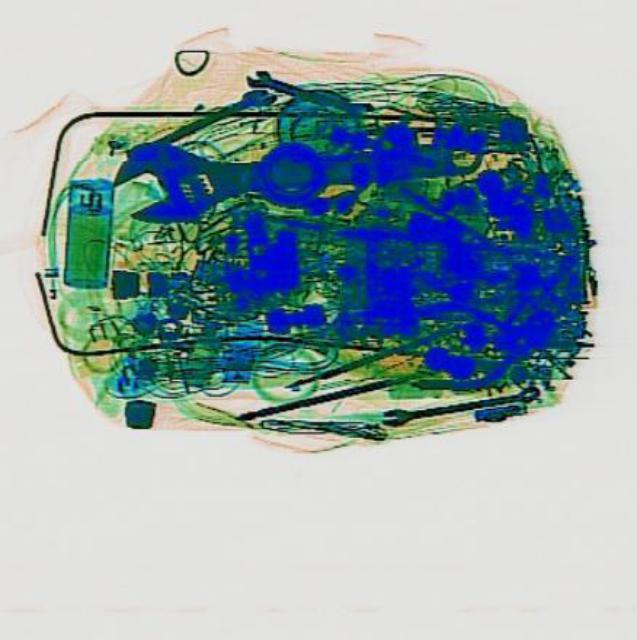Wrench: (107, 109, 484, 228), (151, 81, 273, 147), (379, 382, 540, 426), (241, 63, 364, 117)
